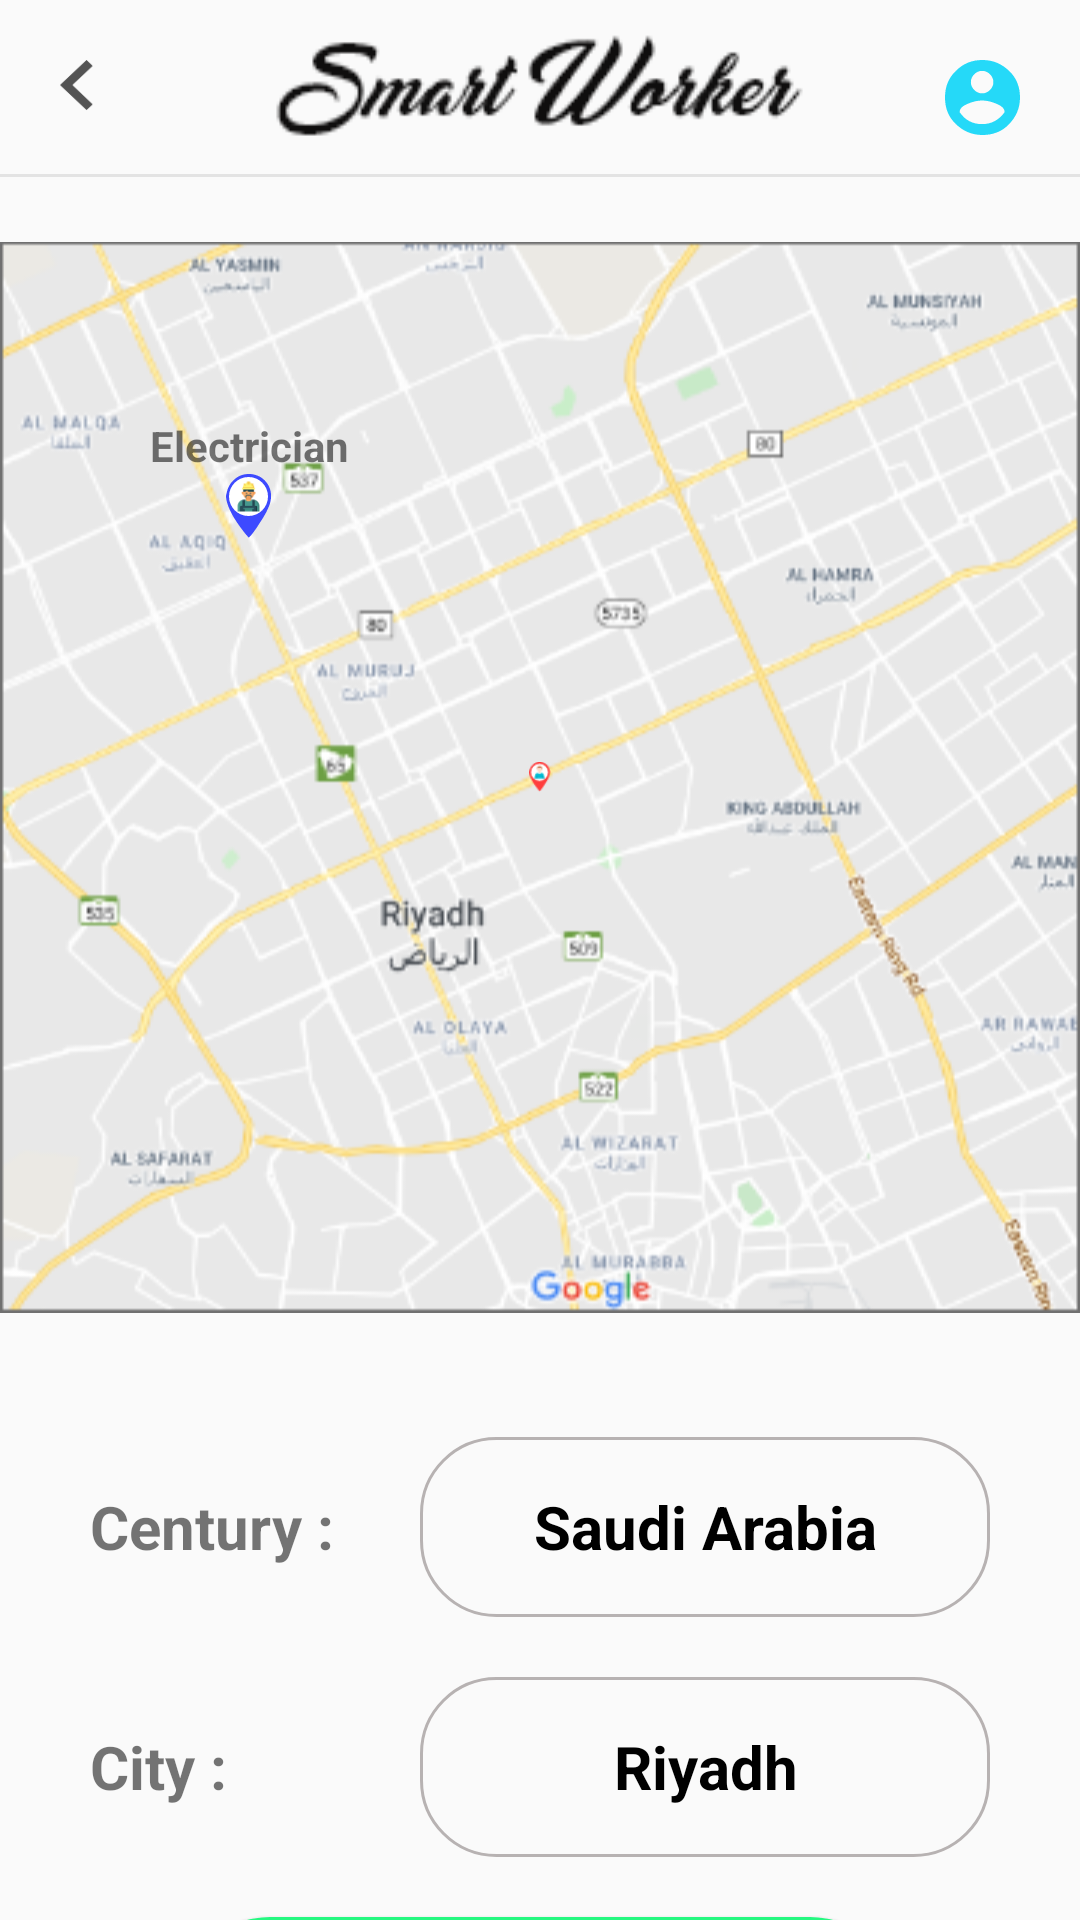

Named icons in this screenshot (1080w x 1920h) and their centers, (x=x, y=y):
back: (x=76, y=85)
map customer: (x=540, y=776)
map worker: (x=249, y=506)
profile blou: (x=982, y=97)
